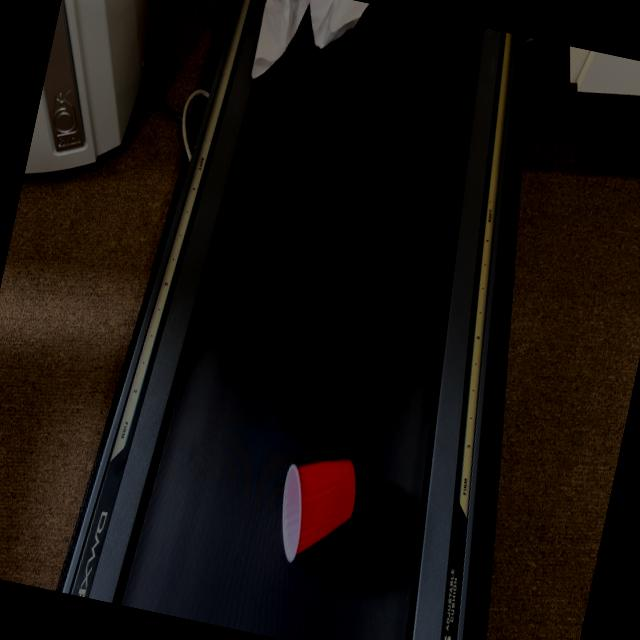Recycle: (265, 428, 385, 582), (232, 0, 371, 122)
